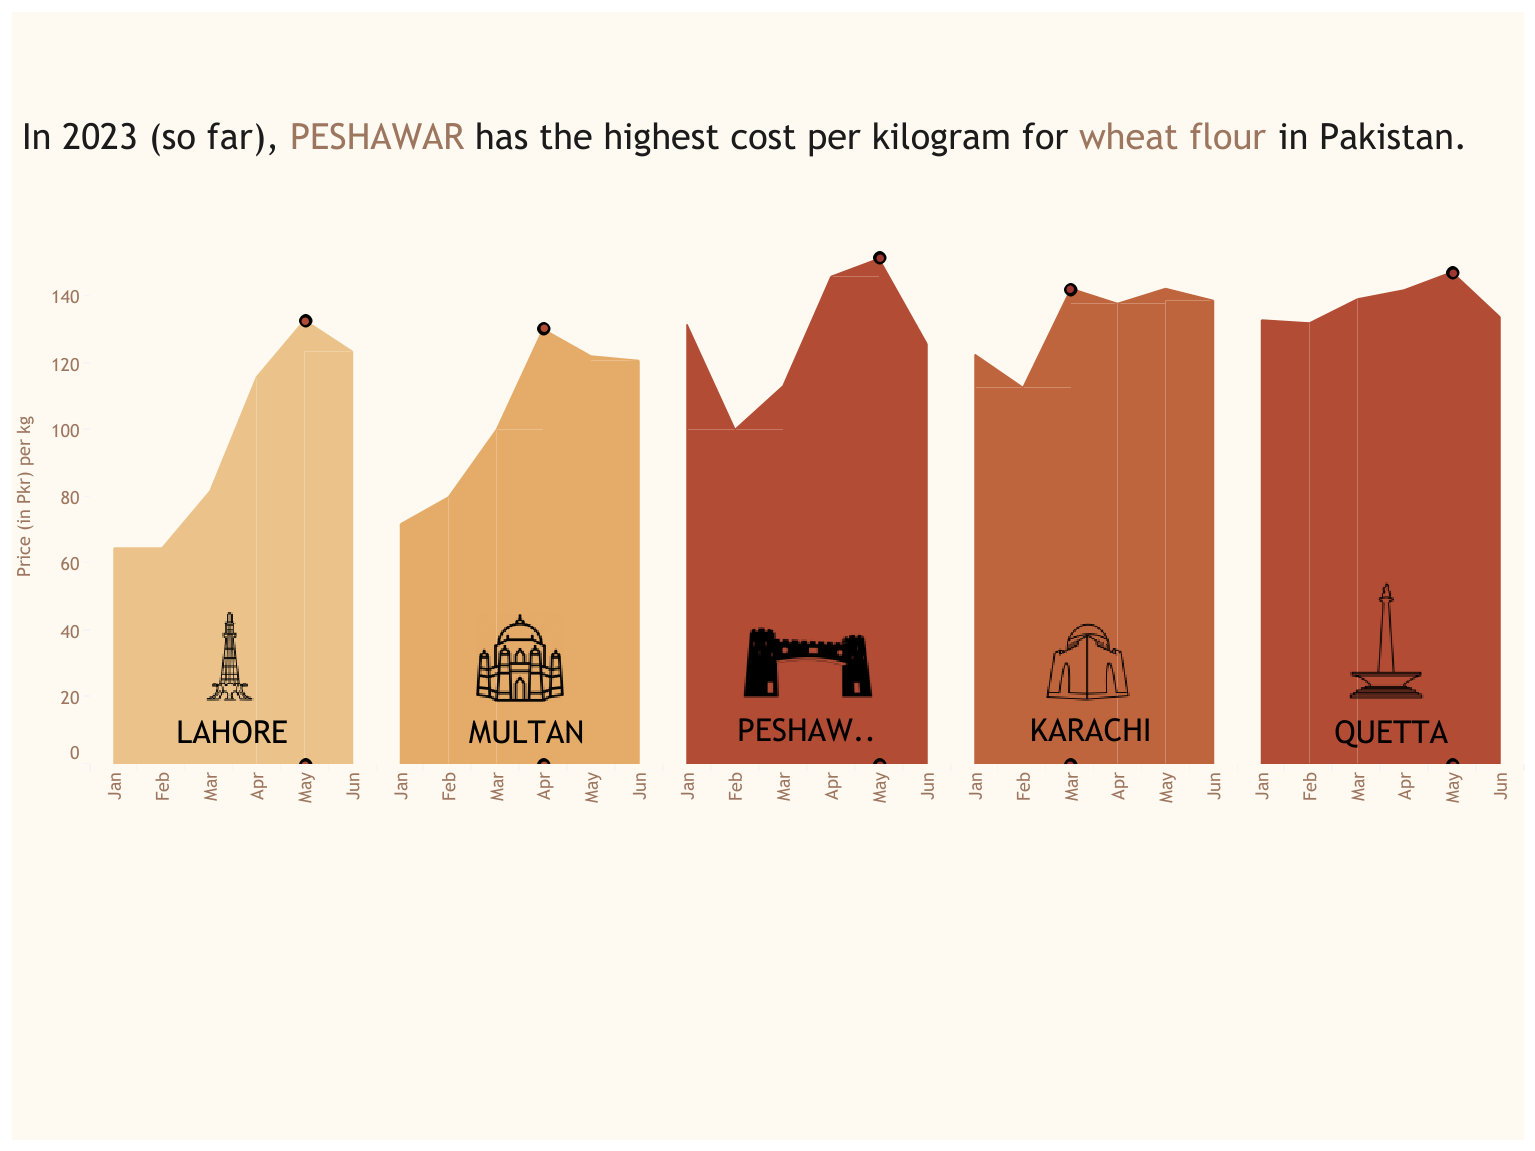

This screenshot's page, from the dashboard's own definition file:
{"tool":"tableau","page":{"name":"Wheat Prices Pakistan","canvas":[1024,768],"ordinal":0},"visuals":[{"type":"text","box":[8,8,1008,91]},{"type":"worksheet","title":"Sheet 1","mark":"Area","rows":["price"],"cols":["admin2","date"],"box":[8,154.7,1008,394.3]},{"type":"image","param":"Image/5556969-200.png","box":[875,387,119,82]},{"type":"image","param":"Image/Lahore-Minar-E-Pakistan-1024x1024.png","box":[114,395,80,94]},{"type":"image","param":"Image/51769-200.png","box":[492,395,95,111]},{"type":"image","param":"Image/Karachi-Mazar-E-Quaid.png","box":[685,395,80,100]},{"type":"image","param":"Image/3812702 (1).png","box":[315,408,63,59]},{"type":"text","box":[309,472,102,29]},{"type":"text","box":[490,472,103,29]},{"type":"text","box":[881,472,102,30]},{"type":"text","box":[116,473,102,29]},{"type":"text","box":[684,473,102,29]},{"type":"text","box":[8,549,1008,211]}]}

Visuals, with their boxes in screenshot pixels (x1, y1, x2, y2), scaled from the page's 1024x768 canvas onto the 1535x1151 screenshot:
text: <region>12, 12, 1523, 148</region>
"Sheet 1" worksheet (Area marks): <region>12, 232, 1523, 823</region>
image: <region>1312, 580, 1490, 703</region>
image: <region>171, 592, 291, 733</region>
image: <region>738, 592, 880, 758</region>
image: <region>1027, 592, 1147, 742</region>
image: <region>472, 611, 567, 700</region>
text: <region>463, 707, 616, 751</region>
text: <region>735, 707, 889, 751</region>
text: <region>1321, 707, 1474, 752</region>
text: <region>174, 709, 327, 752</region>
text: <region>1025, 709, 1178, 752</region>
text: <region>12, 823, 1523, 1139</region>
